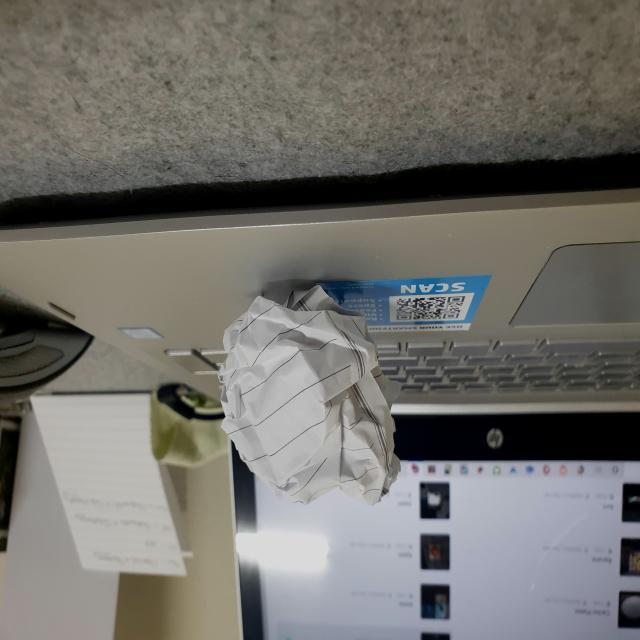Paper: (197, 283, 416, 509)
